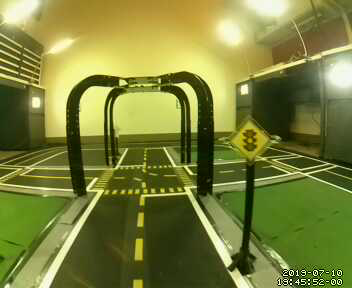Traffic light sign: (232, 119, 270, 161)
